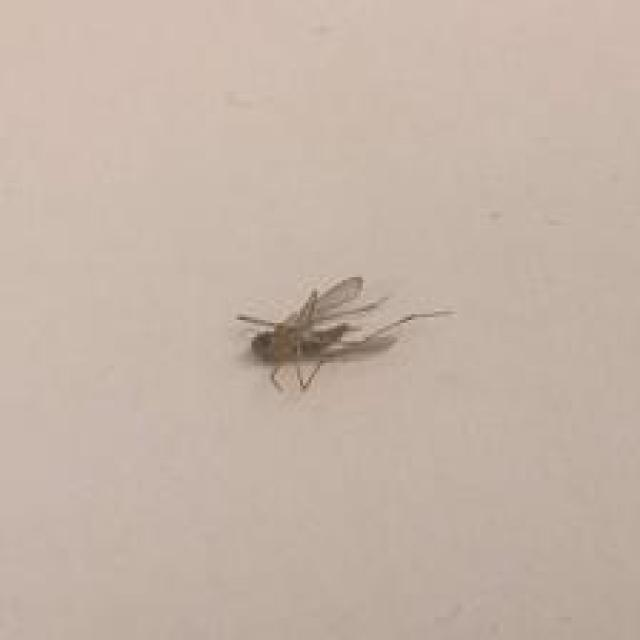Culex: (235, 274, 454, 394)
